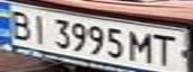3: (48, 16, 72, 51)
5: (103, 26, 127, 61)
9: (84, 24, 109, 56), (66, 20, 87, 53)
B: (3, 7, 36, 42)
I: (24, 11, 54, 44)
M: (127, 29, 157, 64)
T: (148, 31, 184, 69)
